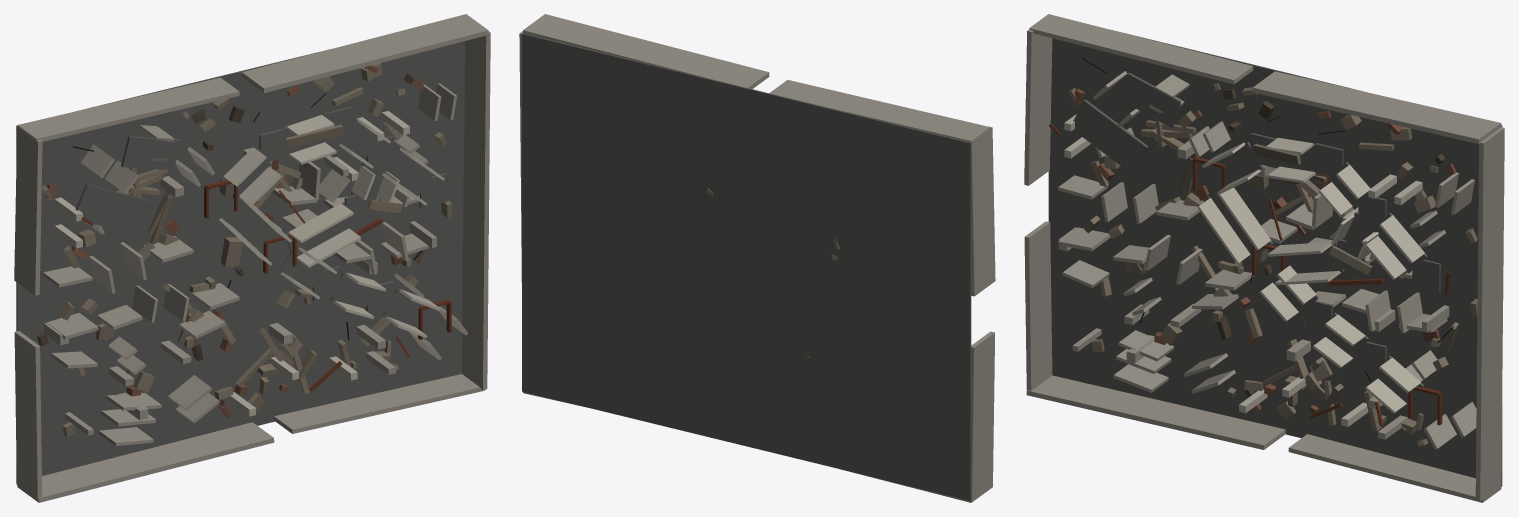
File: Ruins-Urban-01_complex.obj
3 views of the same model, side by side, from view 1: azimuth 30°, elevation 25°; view 2: azimuth 150°, elevation 25°; view 3: azimuth 330°, elevation 25° (orthographic).
Parts seen in each view (by area): view 1: floor_slab, east_boundary, north_boundary_east, south_boundary_west, north_boundary_west, south_boundary_east, west_boundary_north, west_boundary_south, utility_ceiling_01, utility_ceiling_02, upper_walkway_uc_ua, upper_walkway_u3_upper_dead (+40 smaller); view 2: floor_slab, north_boundary_east, north_boundary_west, west_boundary_north, west_boundary_south; view 3: floor_slab, east_boundary, south_boundary_west, north_boundary_east, north_boundary_west, south_boundary_east, west_boundary_south, west_boundary_north, utility_ceiling_01, utility_ceiling_02, upper_corridor_uc_ua_right, upper_corridor_uc_ua_left (+39 smaller).
Boxes of the visible parts, x1,y1,x2,y2 form: floor_slab: [16, 41, 464, 483]; east_boundary: [462, 31, 490, 389]; north_boundary_east: [242, 14, 488, 92]; south_boundary_west: [17, 422, 274, 502]; north_boundary_west: [17, 77, 239, 141]; south_boundary_east: [274, 374, 484, 433]; west_boundary_north: [14, 126, 42, 295]; west_boundary_south: [14, 331, 42, 499]; utility_ceiling_01: [75, 184, 149, 234]; utility_ceiling_02: [121, 136, 181, 170]; upper_walkway_uc_ua: [217, 194, 280, 254]; upper_walkway_u3_upper_dead: [384, 146, 433, 196]; floor_slab: [522, 33, 971, 500]; north_boundary_east: [523, 14, 769, 89]; north_boundary_west: [769, 80, 990, 142]; west_boundary_north: [971, 126, 995, 296]; west_boundary_south: [971, 331, 994, 500]; floor_slab: [1048, 29, 1502, 486]; east_boundary: [1475, 127, 1504, 501]; south_boundary_west: [1026, 375, 1285, 449]; north_boundary_east: [1252, 71, 1501, 143]; north_boundary_west: [1029, 14, 1253, 84]; south_boundary_east: [1288, 434, 1501, 502]; west_boundary_south: [1024, 221, 1052, 390]; west_boundary_north: [1024, 29, 1052, 185]; utility_ceiling_01: [1073, 99, 1148, 174]; utility_ceiling_02: [1120, 72, 1181, 127]; upper_corridor_uc_ua_right: [1217, 187, 1270, 250]; upper_corridor_uc_ua_left: [1197, 197, 1250, 263].
Size of the model in its own units: 42.62 by 32.51 by 6.72.
